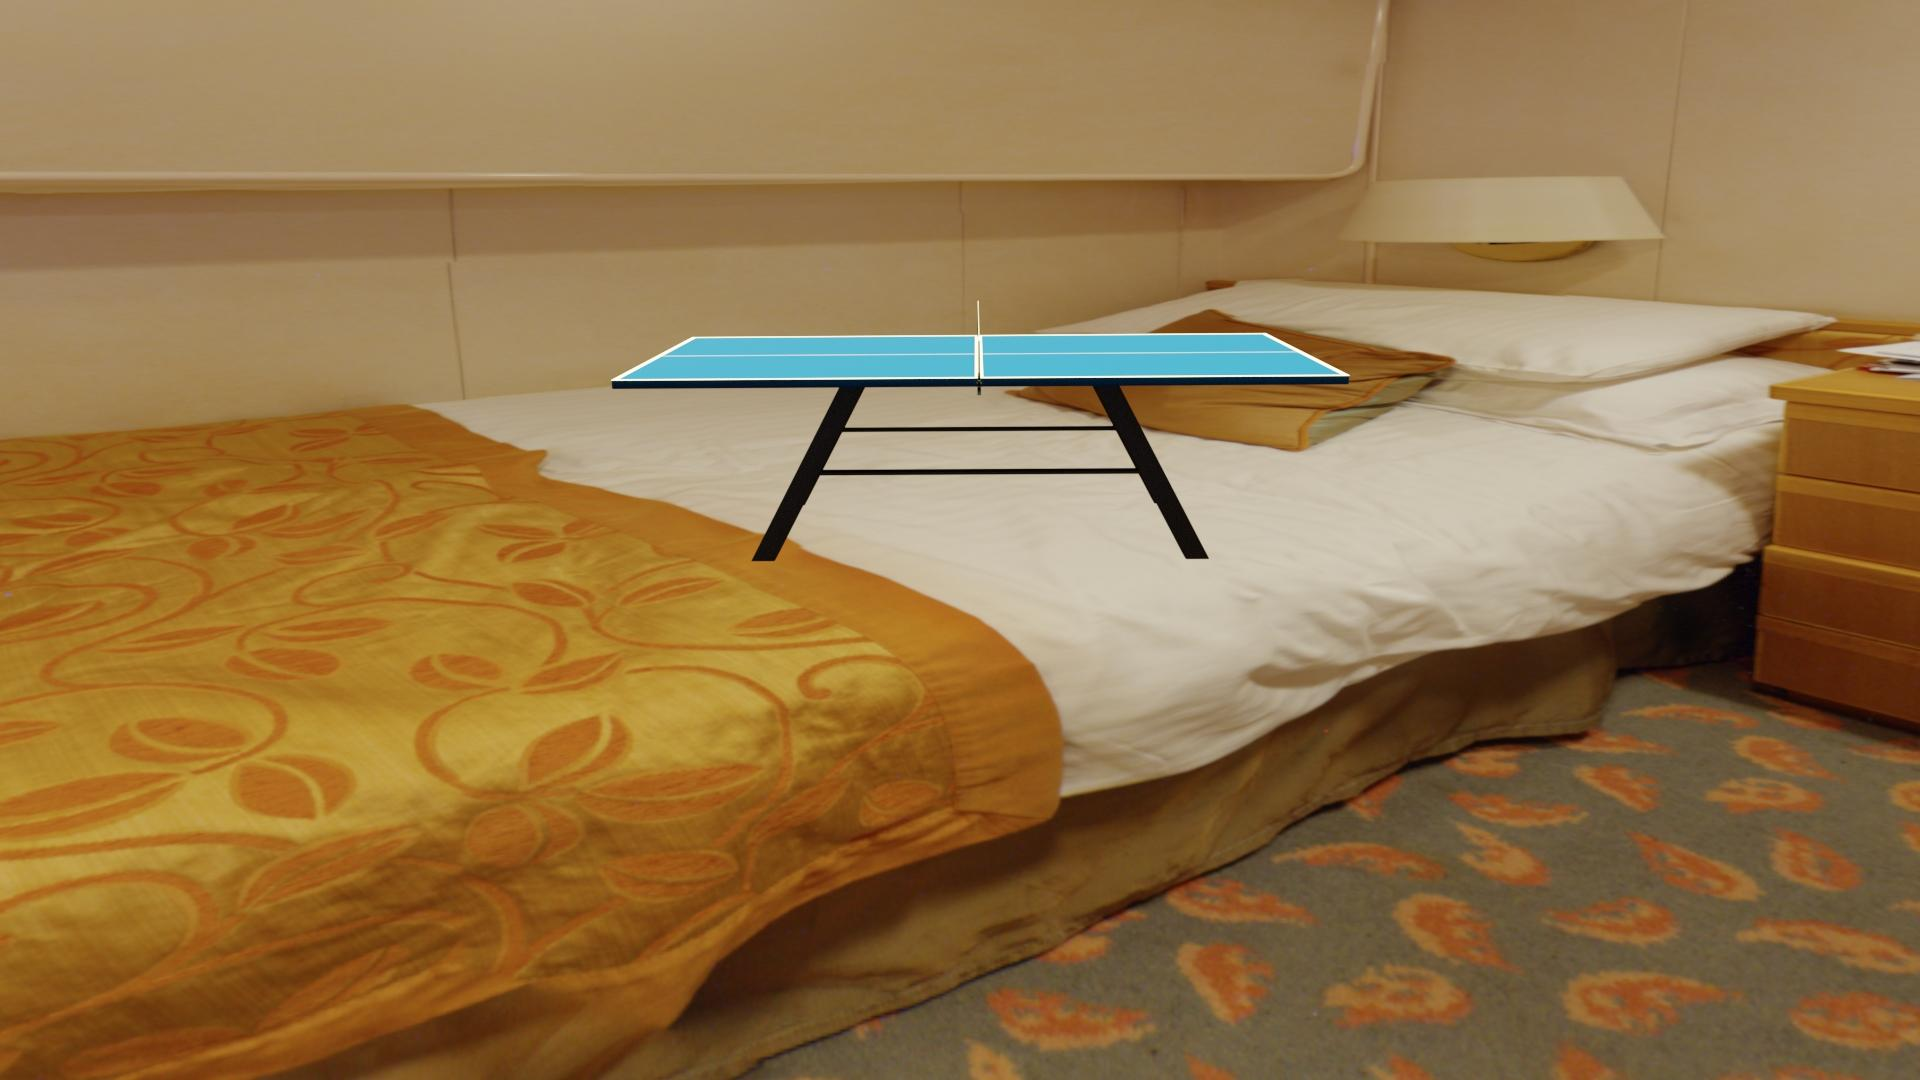table: (617, 334, 1342, 380)
